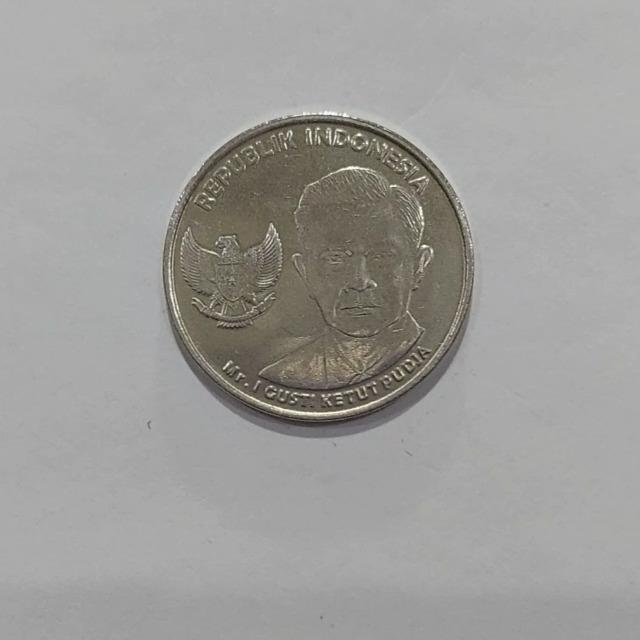Rp100: (161, 111, 476, 426), (253, 162, 437, 393), (177, 219, 284, 329)
